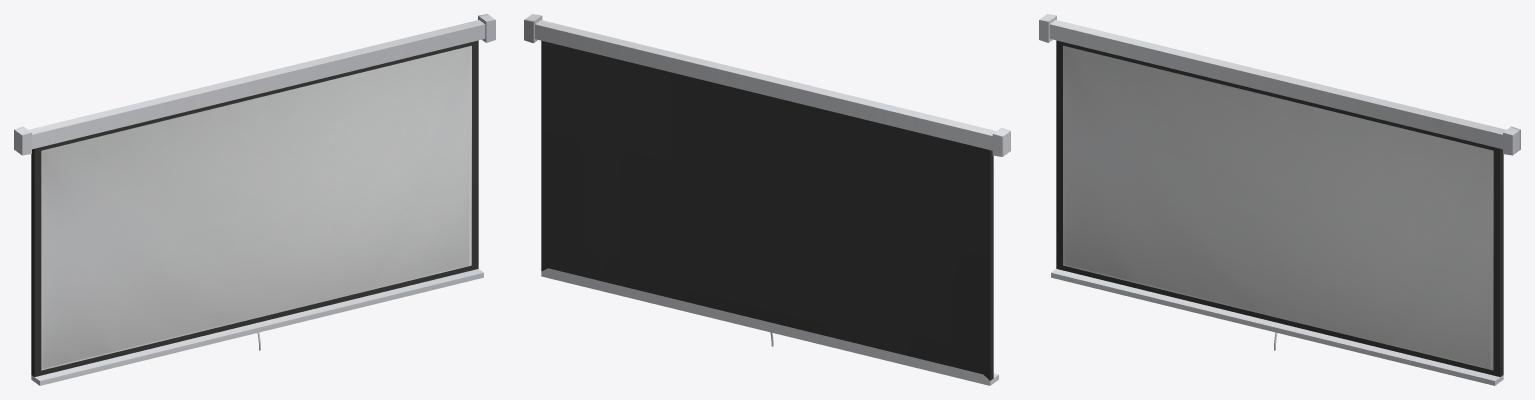
File: ProjectorScreen.FBX
The picture shows the model from 3 angles, left to right: view 1: azimuth 30°, elevation 25°; view 2: azimuth 150°, elevation 25°; view 3: azimuth 330°, elevation 25°; orthographic projection.
Parts seen in each view (by area): view 1: Projector Screen; view 2: Projector Screen; view 3: Projector Screen.
Part boxes in pixels (x1,y1,x2,y2): Projector Screen: (14, 14, 495, 385); Projector Screen: (524, 14, 1010, 385); Projector Screen: (1039, 14, 1520, 385).
Bounding box in the file's own units: 194 × 107 × 8.02.
